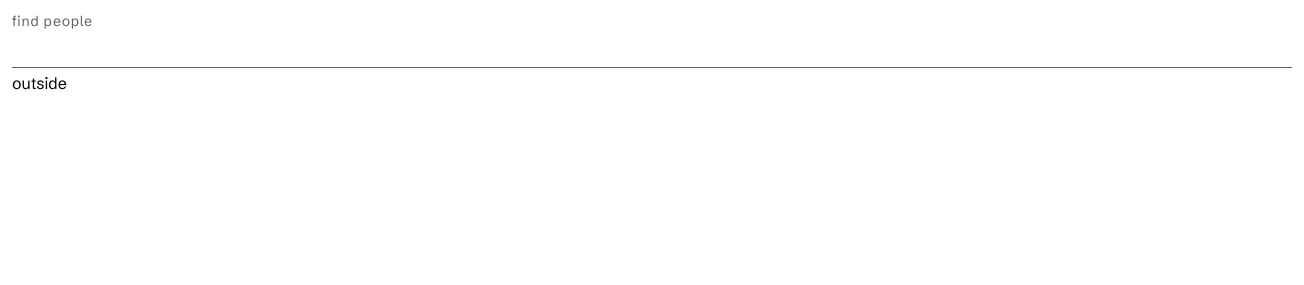
Test: HeaderSearch › B-93: every result is a link to /users/:id that a click follows
Type "mi" into the dropdown labelled "find people" at (652, 52), box [12, 36, 1292, 68]
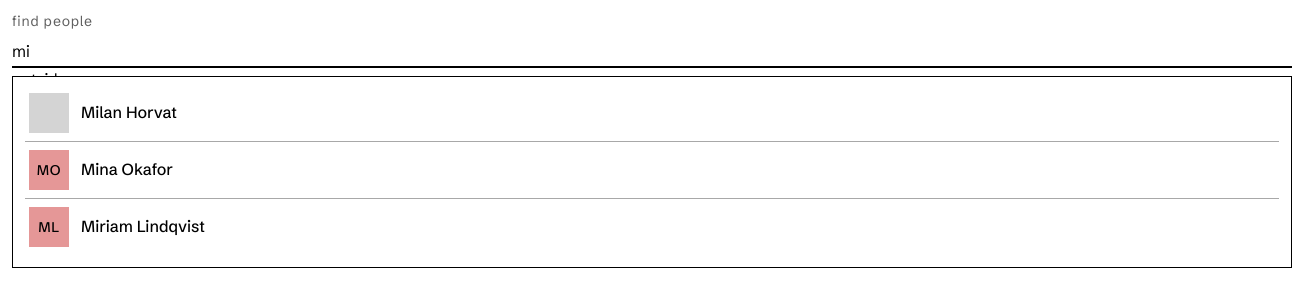
Click the option "ML Miriam Lindqvist" at (117, 227), box [29, 207, 205, 247]
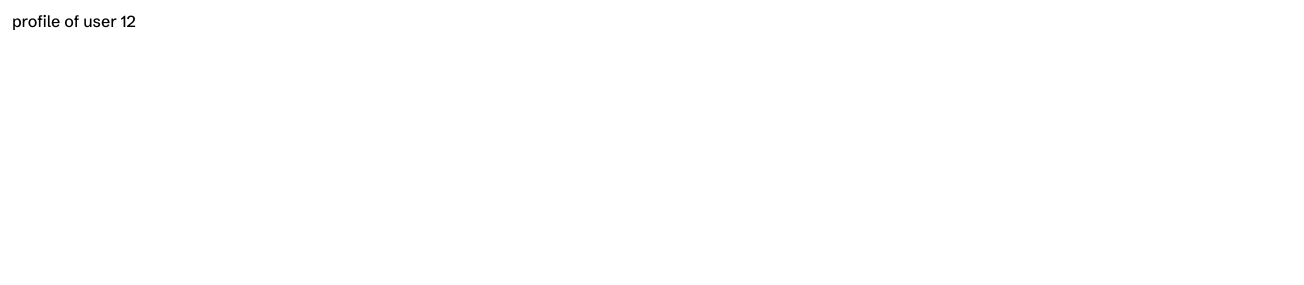
Check: the heading "profile of user 12" is shown, box [12, 11, 136, 31]
Check: the list is gone
